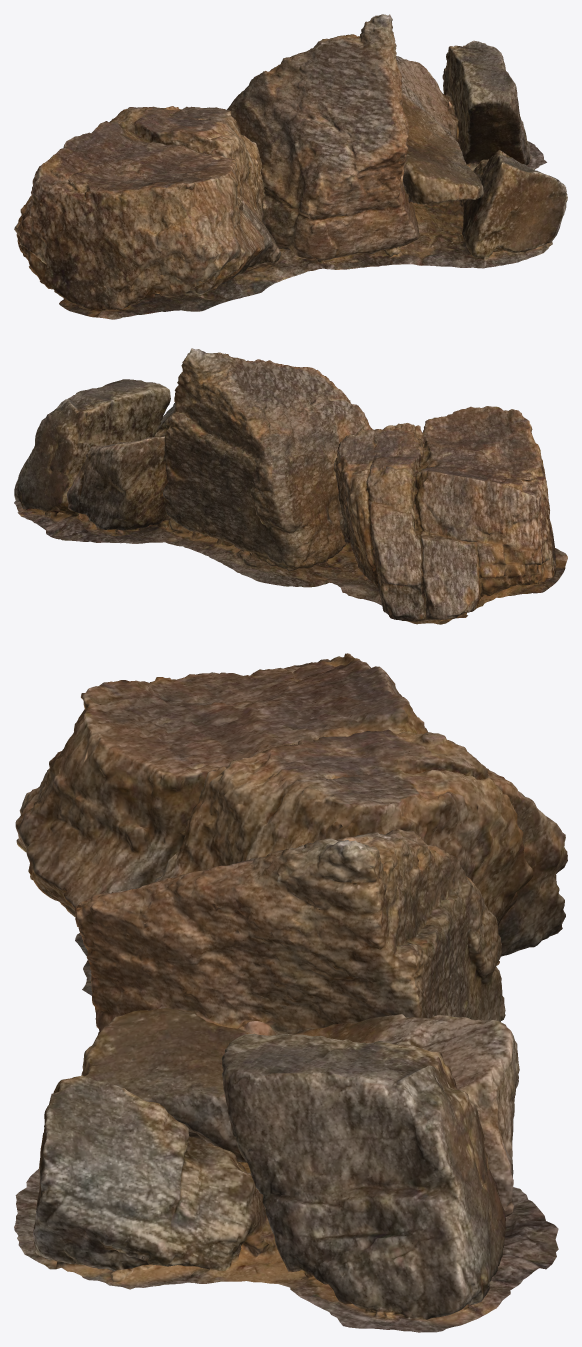
The model's file is namaqualand_boulder_02.glb.
3 views of the same model, one above another, from view 1: azimuth 30°, elevation 25°; view 2: azimuth 150°, elevation 25°; view 3: azimuth 270°, elevation 25° (orthographic). The views are drawn at different scales.
Visible parts, largest first — view 1: boulder_02; view 2: boulder_02; view 3: boulder_02.
Part boxes in pixels (x1,y1,x2,y2): boulder_02: (14,14,567,319); boulder_02: (14,348,567,624); boulder_02: (14,653,567,1332).
Size of the model in its own units: 2.53 by 0.8827 by 1.23.
1 material, 1 textured.
